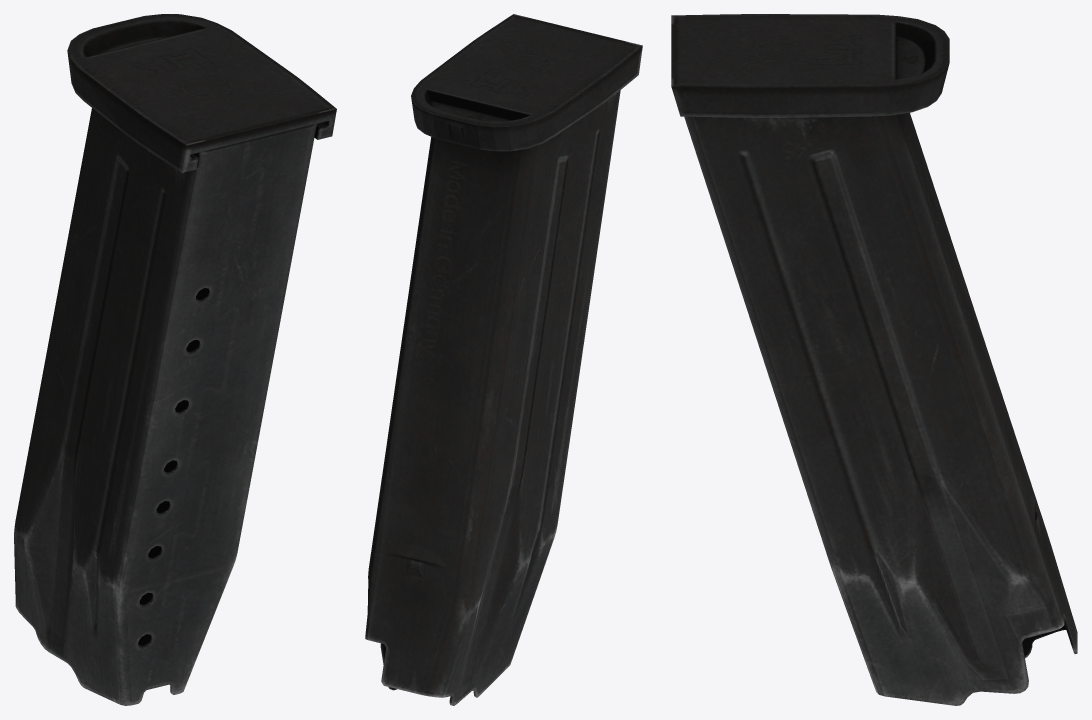
The picture shows the model from 3 angles, left to right: view 1: azimuth 30°, elevation 25°; view 2: azimuth 150°, elevation 25°; view 3: azimuth 270°, elevation 25°; orthographic projection. The views are drawn at different scales.
Parts seen in each view (by area): view 1: TW_6193d338de3cdf1d2614a6fc_PZ_Import; view 2: TW_6193d338de3cdf1d2614a6fc_PZ_Import; view 3: TW_6193d338de3cdf1d2614a6fc_PZ_Import.
Boxes of the visible parts, box(x1,y1,x2,y2) form: TW_6193d338de3cdf1d2614a6fc_PZ_Import: box(14, 14, 336, 705); TW_6193d338de3cdf1d2614a6fc_PZ_Import: box(365, 14, 642, 705); TW_6193d338de3cdf1d2614a6fc_PZ_Import: box(671, 14, 1077, 705).
Size of the model in its own units: 0.0174 by 0.0404 by 0.0703.
Materials: 1 (1 with a texture image).
